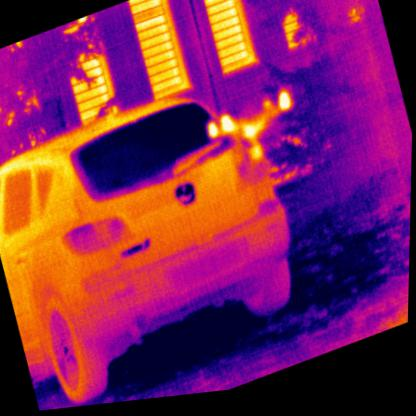drone: (202, 89, 306, 183)
